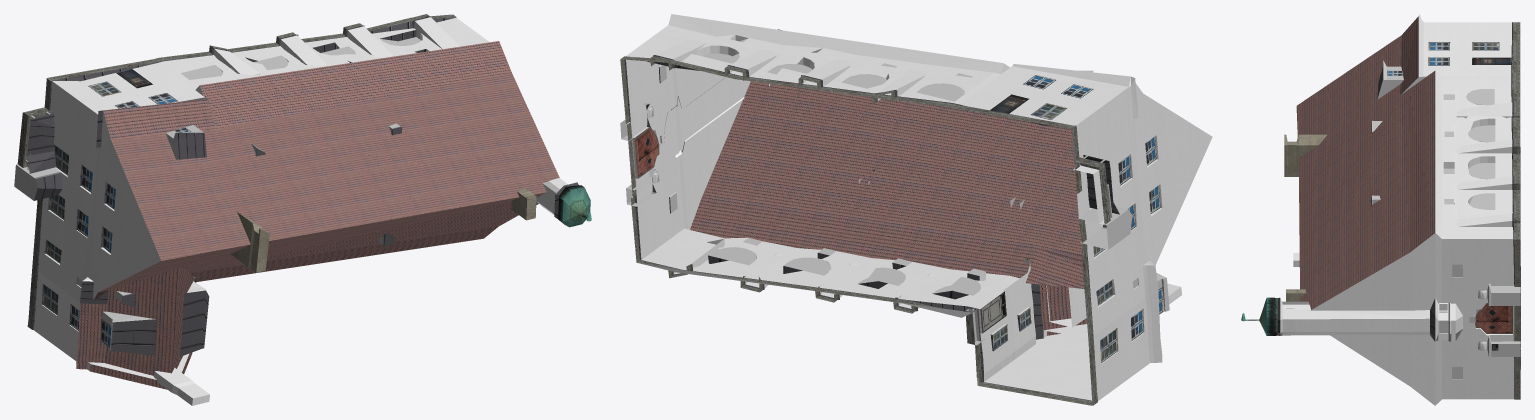
File: mere_pst_3-origo.obj
3 views of the same model, side by side, from view 1: azimuth 30°, elevation 25°; view 2: azimuth 150°, elevation 25°; view 3: azimuth 270°, elevation 25° (orthographic). The views are drawn at different scales.
Visible parts, largest first — view 1: default; view 2: default; view 3: default.
Part boxes in pixels (<box>): default: <box>14,14,591,405</box>; default: <box>620,14,1212,405</box>; default: <box>1241,14,1520,405</box>.
Bounding box in the file's own units: 32.5 × 18 × 19.
